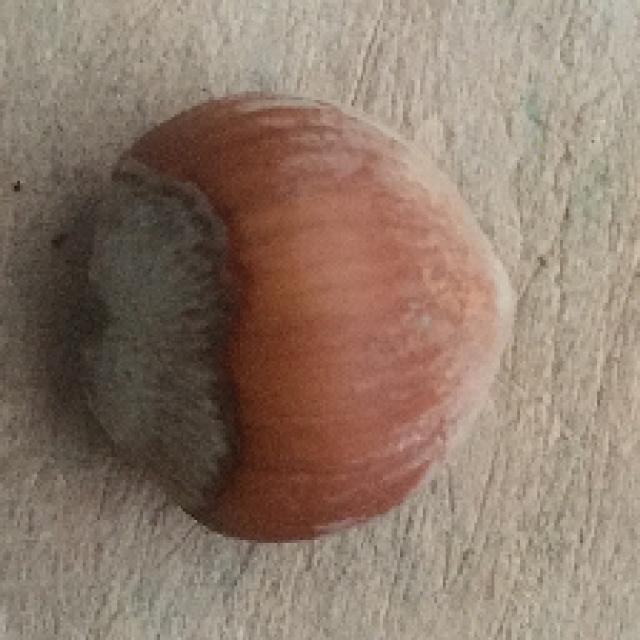qualityHazelnut: (73, 93, 521, 544)
